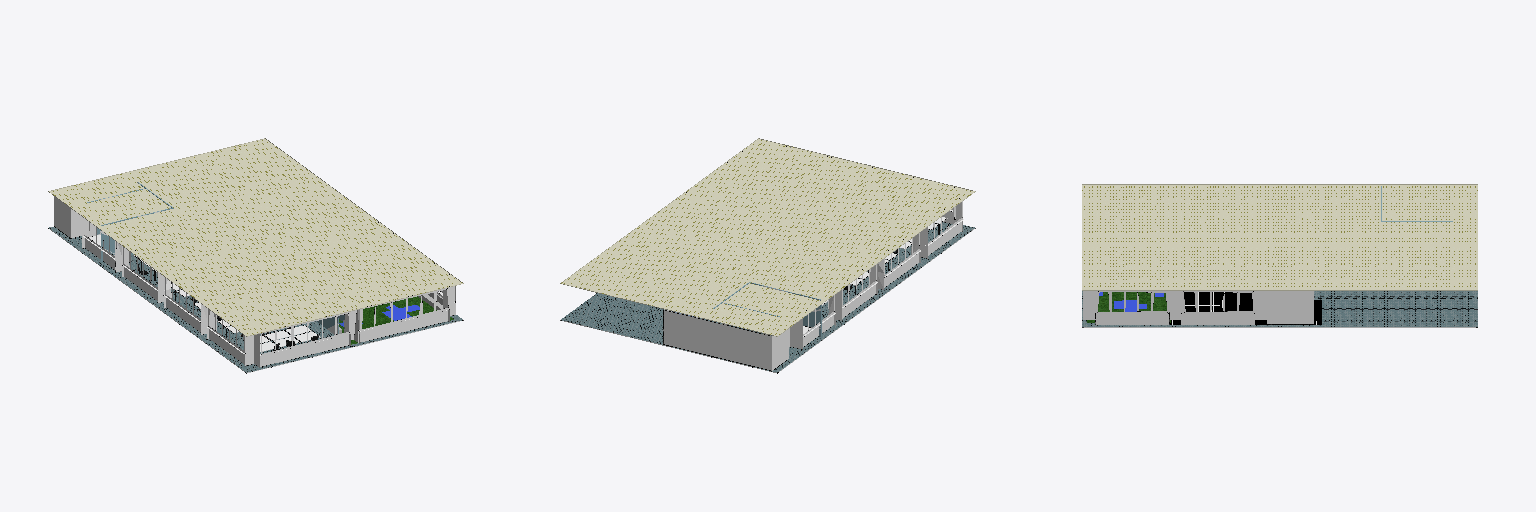
The picture shows the model from 3 angles: view 1: azimuth 30°, elevation 25°; view 2: azimuth 150°, elevation 25°; view 3: azimuth 270°, elevation 25°; orthographic projection.
Parts seen in each view (by area): view 1: Techo_Cube.029, pared, comunicacion_Cylinder.026; view 2: Techo_Cube.029, pared; view 3: Techo_Cube.029, pared.
Part boxes in pixels (x1,y1,x2,y2): Techo_Cube.029: (48,138,463,336); pared: (48,196,463,373); comunicacion_Cylinder.026: (260,325,320,351); Techo_Cube.029: (560,138,975,336); pared: (560,146,975,373); Techo_Cube.029: (1082,184,1477,290); pared: (1082,291,1477,327).
Size of the model in its own units: 9.76 by 1.62 by 15.43.
19 materials, 10 textured.